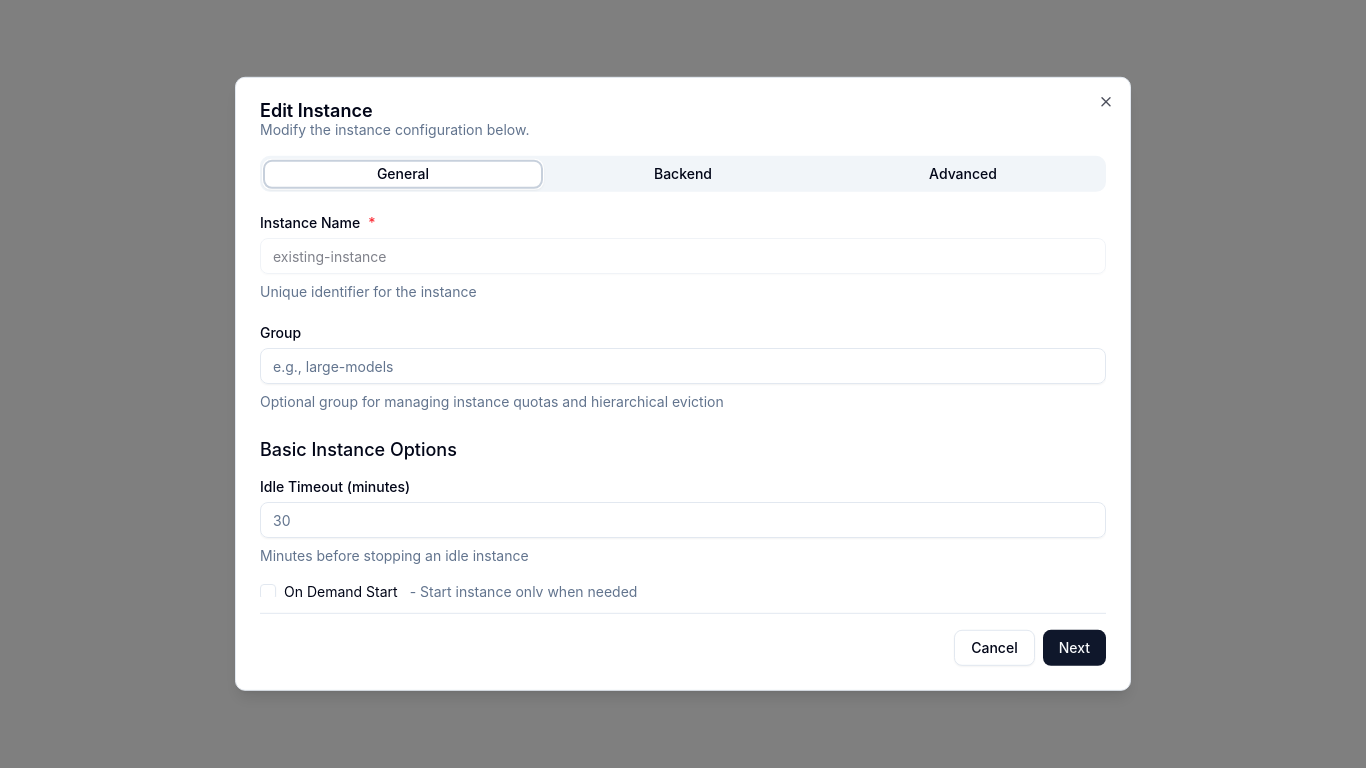
InstanceModal - Form Logic and Validation › Edit Mode › shows correct button text for running instances
Click the tab "Advanced" at x=963, y=174, box [823,159,1103,188]
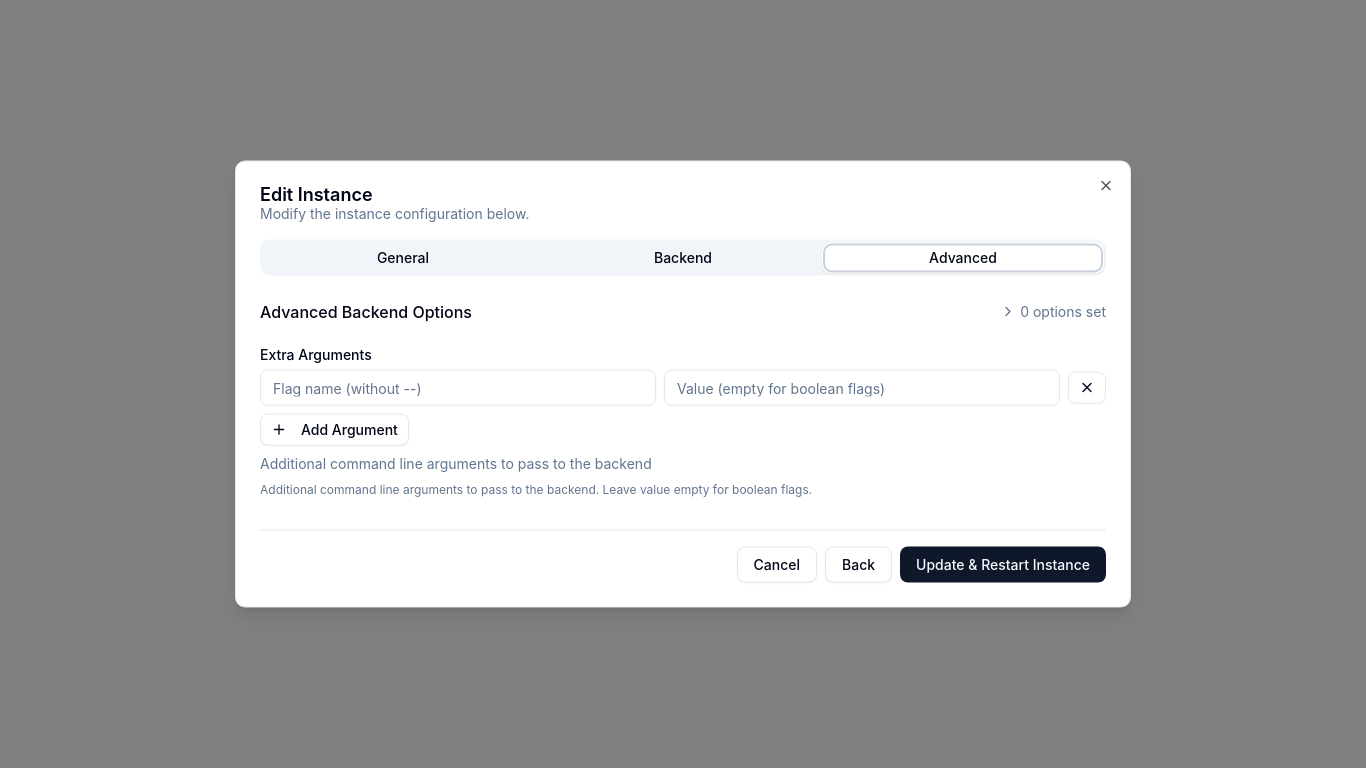
Expected: the button "Update & Restart Instance" is shown, [900,546,1106,582]
